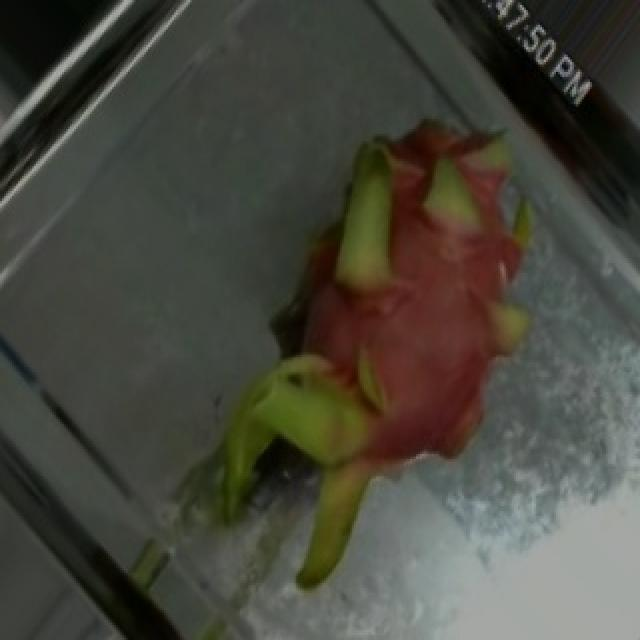fruit: (204, 42, 632, 496)
